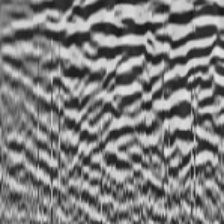cavities: (33, 2, 224, 224)
